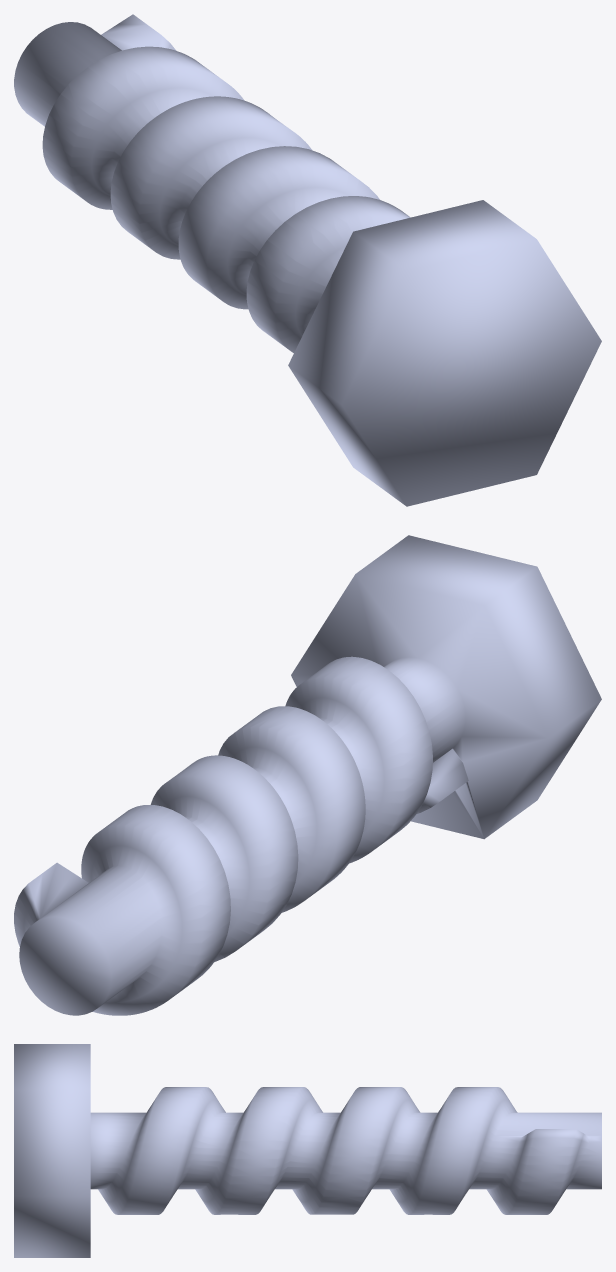
Rendered from screw_v3.obj.
The picture shows the model from 3 angles, top to bottom: view 1: azimuth 30°, elevation 25°; view 2: azimuth 150°, elevation 25°; view 3: azimuth 270°, elevation 25°; orthographic projection. The views are drawn at different scales.
Bounding box in the file's own units: 0.042 × 0.0364 × 0.115.
